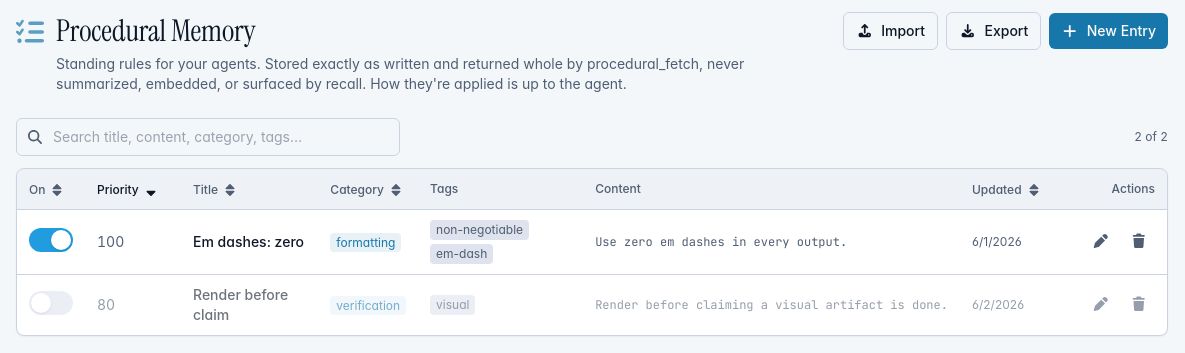
Test: ProceduralMemory table › filters rows live as the user types in search
Type "render" into the field with placeholder "Search title, content, category, tags…" at (208, 136), box [16,118,400,156]
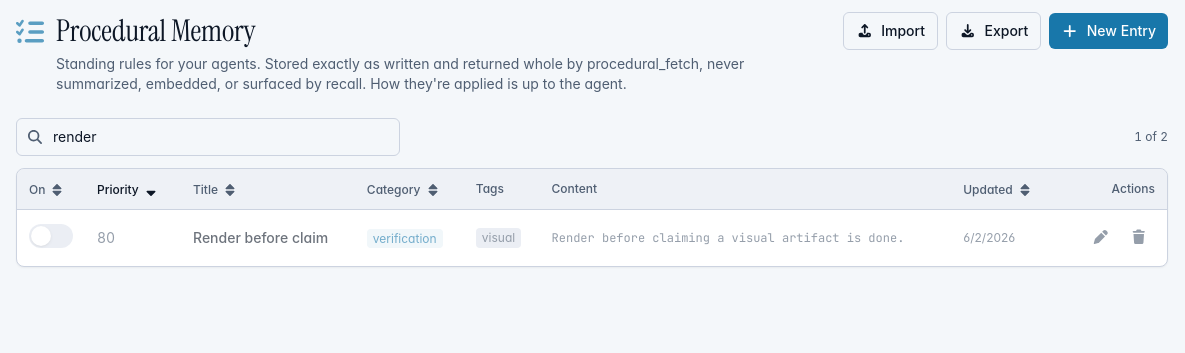
Expected: the text "Render before claim" is shown, [181,209,355,266]
Expected: the text "Em dashes: zero" is gone
